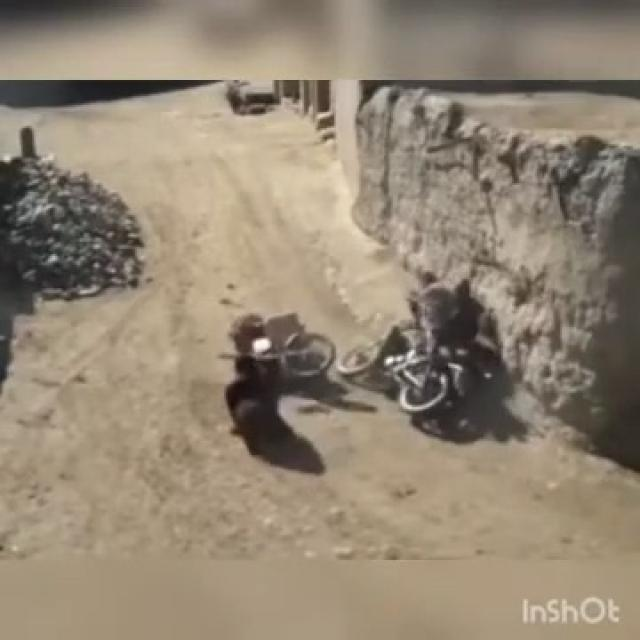accident: (337, 318, 515, 414), (222, 300, 343, 385)
